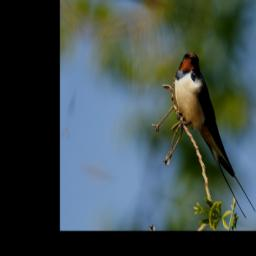Swallow: (153, 48, 256, 222)
